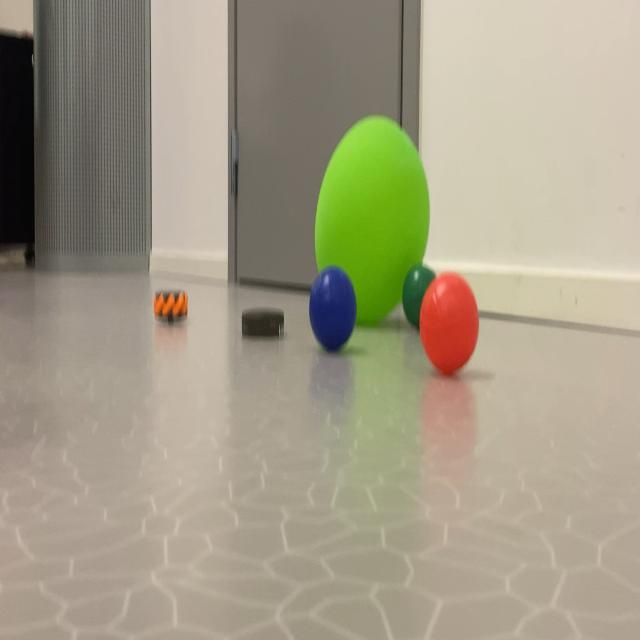7: (415, 268, 486, 385), (308, 265, 357, 365), (402, 254, 435, 330)
blue ball: (308, 260, 502, 406)
